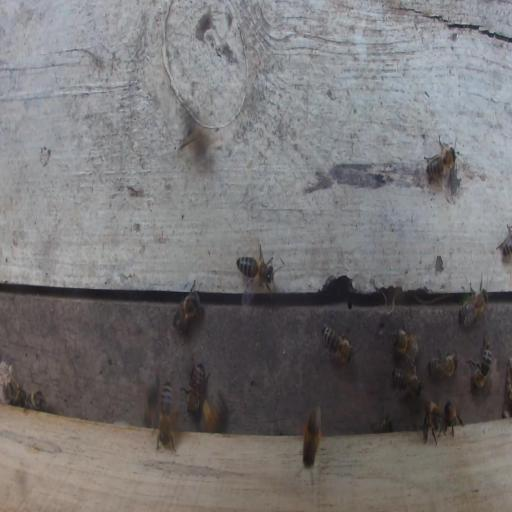bee: (464, 331, 493, 395), (235, 250, 276, 294), (457, 281, 488, 331), (156, 375, 176, 452), (320, 322, 354, 366), (301, 401, 322, 468), (390, 367, 423, 406), (425, 142, 457, 181), (173, 291, 200, 337), (390, 324, 420, 364), (427, 350, 459, 386), (421, 398, 445, 446), (186, 360, 205, 419), (202, 392, 225, 433), (444, 400, 467, 440), (495, 222, 511, 261), (6, 379, 23, 407), (23, 390, 45, 411)
